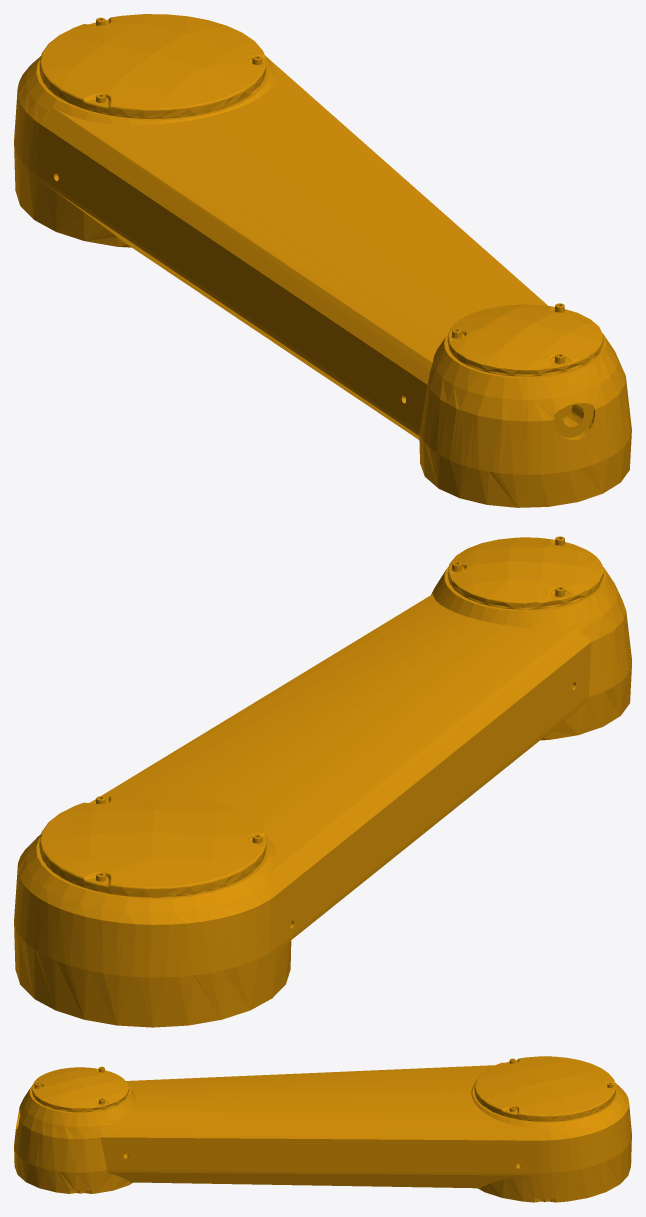
Rendered from arm_link.dae.
3 renders of one model, top to bottom at view 1: azimuth 30°, elevation 25°; view 2: azimuth 150°, elevation 25°; view 3: azimuth 270°, elevation 25°, orthographic. The views are drawn at different scales.
Visible parts, largest first — view 1: node; view 2: node; view 3: node.
Boxes of the visible parts, <box> form: node: <box>14,14,631,507</box>; node: <box>14,536,631,1027</box>; node: <box>14,1056,631,1202</box>.
Size of the model in its own units: 0.242 by 0.1315 by 0.8641.
